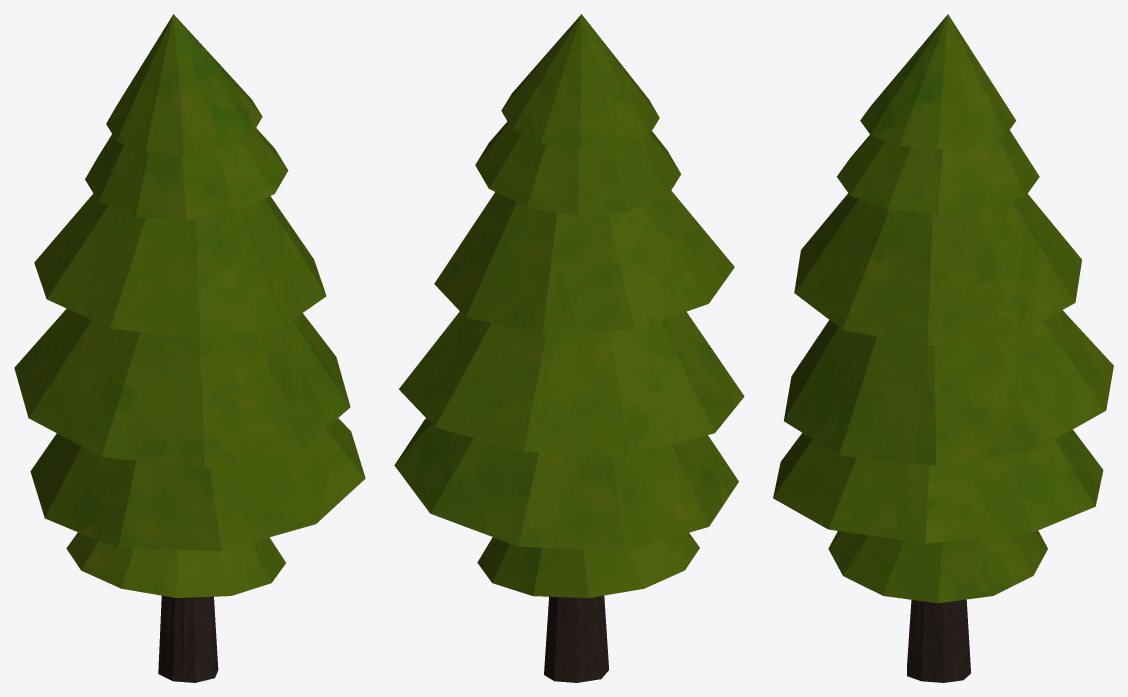
The model's file is tree-lime-green-flowers_2.fbx.
3 renders of one model, left to right at view 1: azimuth 30°, elevation 25°; view 2: azimuth 150°, elevation 25°; view 3: azimuth 270°, elevation 25°, orthographic.
Visible parts, largest first — view 1: Cylinder.013; view 2: Cylinder.013; view 3: Cylinder.013.
Part boxes in pixels (left/top/right/bottom): Cylinder.013: left=14, top=14, right=365, bottom=682; Cylinder.013: left=394, top=14, right=744, bottom=682; Cylinder.013: left=773, top=14, right=1113, bottom=682.
Bounding box in the file's own units: 115 × 237 × 112.
